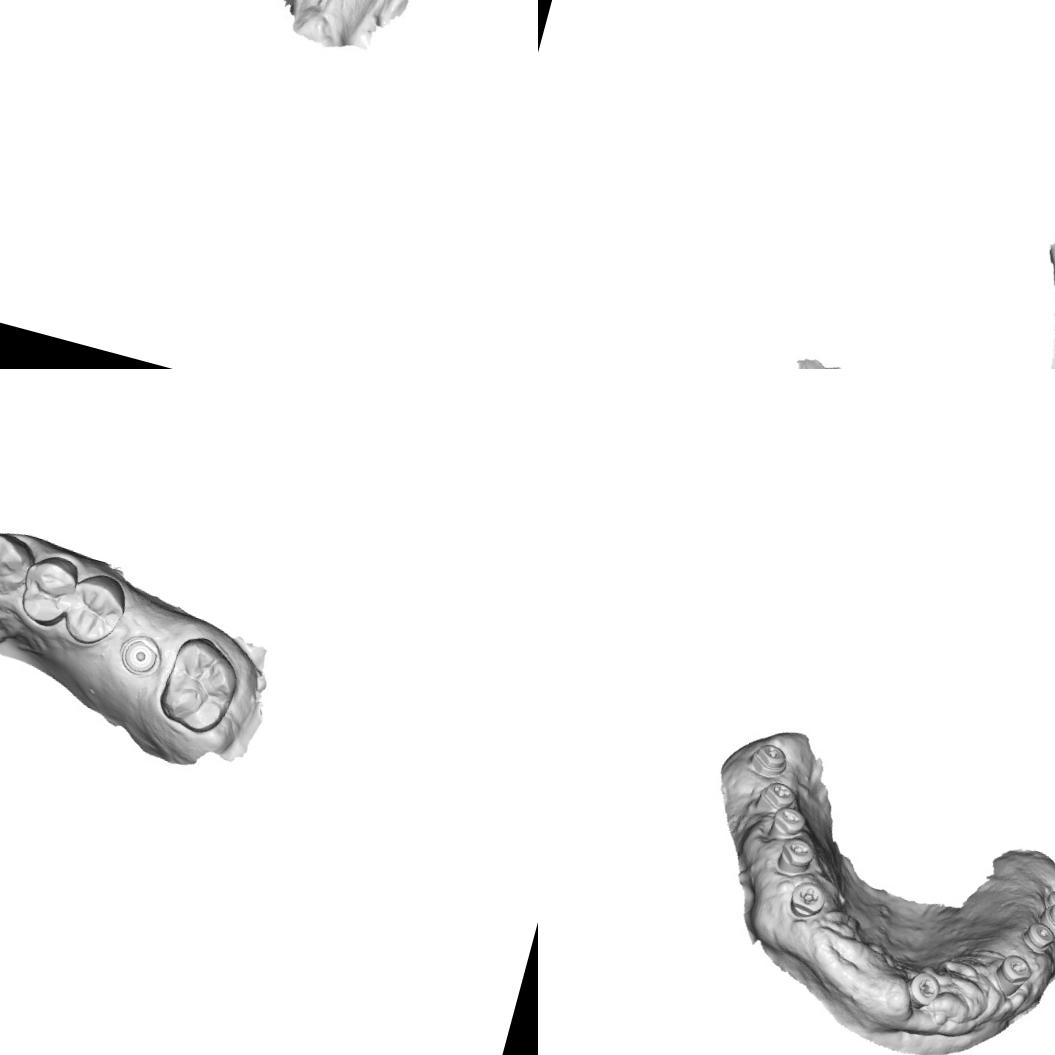canine: (0, 523, 38, 601)
implant: (114, 628, 167, 684), (1016, 916, 1055, 956), (1042, 886, 1055, 913)
implant_minus: (986, 948, 1036, 1002), (772, 832, 818, 880), (746, 737, 792, 781), (766, 801, 810, 844), (1033, 898, 1055, 945)
implant_plus: (782, 872, 830, 926), (752, 771, 802, 820), (902, 964, 946, 1013)
molar: (150, 628, 249, 742)
premolar: (58, 566, 132, 654), (10, 547, 81, 632)
